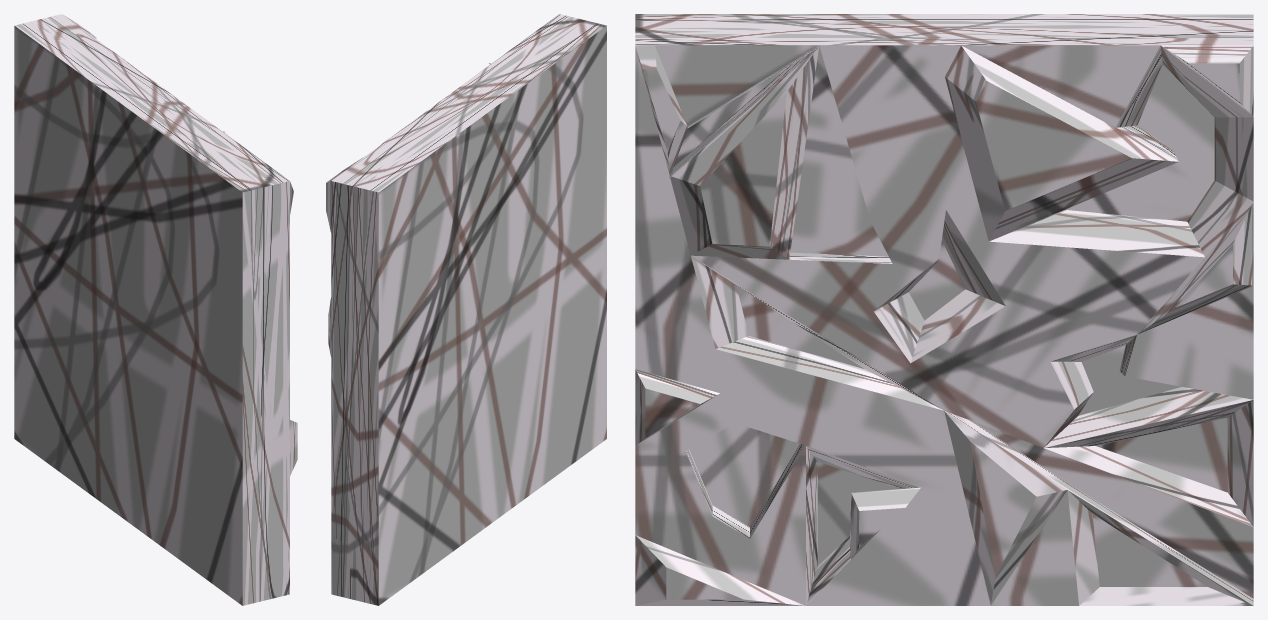
File: TexturedSpacewall.fbx
3 views of the same model, side by side, from view 1: azimuth 30°, elevation 25°; view 2: azimuth 150°, elevation 25°; view 3: azimuth 270°, elevation 25° (orthographic). The views are drawn at different scales.
Visible parts, largest first — view 1: Rockwall; view 2: Rockwall; view 3: Rockwall.
Part boxes in pixels (bbox=[...]): Rockwall: bbox=[14, 14, 297, 605]; Rockwall: bbox=[326, 14, 606, 605]; Rockwall: bbox=[635, 14, 1253, 605].
Size of the model in its own units: 30.58 by 200 by 200.
Materials: 1 (1 with a texture image).
